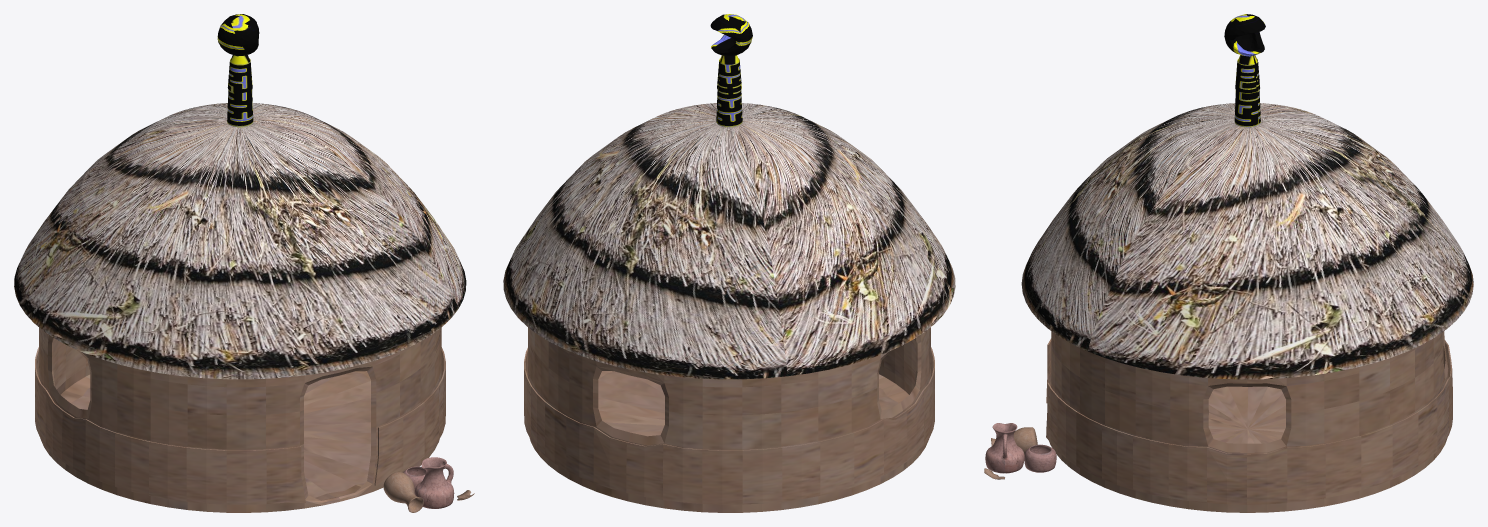
Rendered from siedlung.obj.
The picture shows the model from 3 angles, left to right: view 1: azimuth 30°, elevation 25°; view 2: azimuth 150°, elevation 25°; view 3: azimuth 270°, elevation 25°; orthographic projection.
Visible parts, largest first — view 1: Circle, Circle.003, Circle.002, Circle.001; view 2: Circle, Circle.003, Circle.001; view 3: Circle, Circle.003, Circle.002, Circle.001.
Part boxes in pixels (x1=…): Circle: x1=14, y1=103, x2=466, y2=512; Circle.003: x1=35, y1=58, x2=445, y2=504; Circle.002: x1=383, y1=457, x2=474, y2=512; Circle.001: x1=217, y1=14, x2=259, y2=127; Circle: x1=503, y1=103, x2=955, y2=512; Circle.003: x1=524, y1=58, x2=934, y2=504; Circle.001: x1=710, y1=14, x2=752, y2=127; Circle: x1=1021, y1=103, x2=1473, y2=512; Circle.003: x1=1046, y1=58, x2=1452, y2=504; Circle.002: x1=984, y1=423, x2=1056, y2=479; Circle.001: x1=1224, y1=14, x2=1265, y2=127.
Size of what is drawn, in the model's own units: 6.85 by 6.94 by 7.41.
